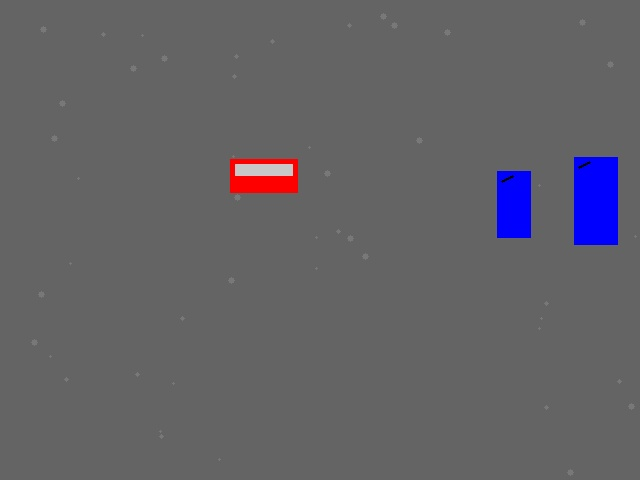car: (230, 159, 297, 192)
motorcycle: (574, 157, 617, 244), (497, 171, 530, 237)
